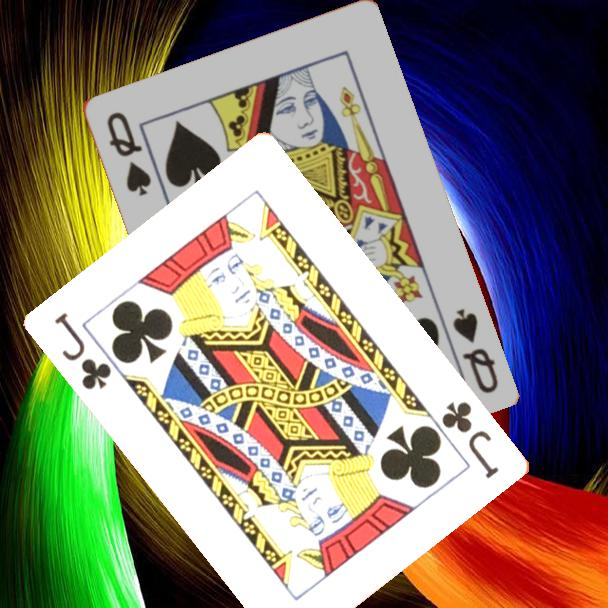c11: (438, 397, 503, 482), (51, 309, 115, 393)
s12: (448, 304, 501, 396), (102, 108, 154, 199)
